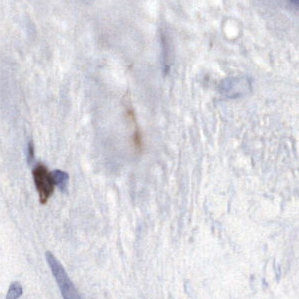Lymphocyte: (31, 162, 56, 206)
